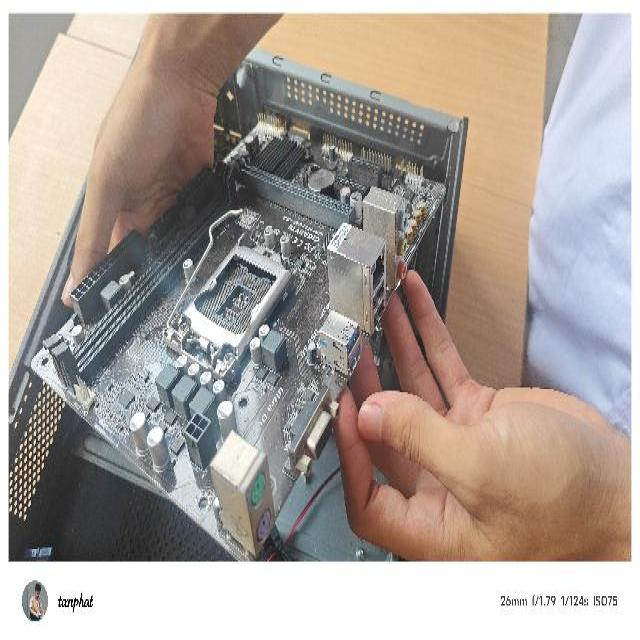Mainboard: (29, 97, 452, 558)
